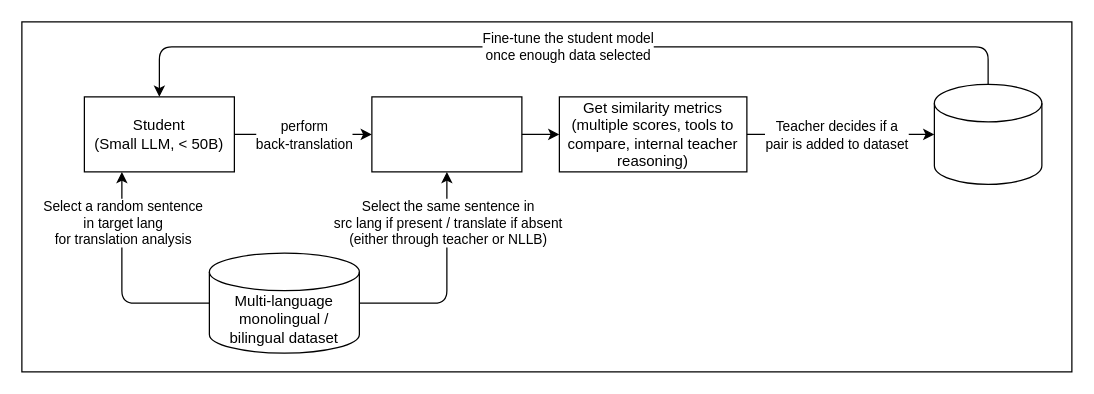
The diagram is 1094 pixels wide and 394 high, and some of its shapes have lost their labels. Each missing label, with the centre of its shape:
"Fine-tuning Dataset" goes at pixel 987 133.
"Teacher (Large LLM)" goes at pixel 446 134.
